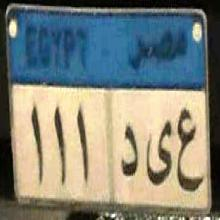1: (28, 96, 46, 186), (51, 104, 69, 191), (75, 102, 91, 191)
ain: (174, 100, 202, 198)
daal: (119, 114, 139, 180)
yaa: (144, 116, 173, 190)
